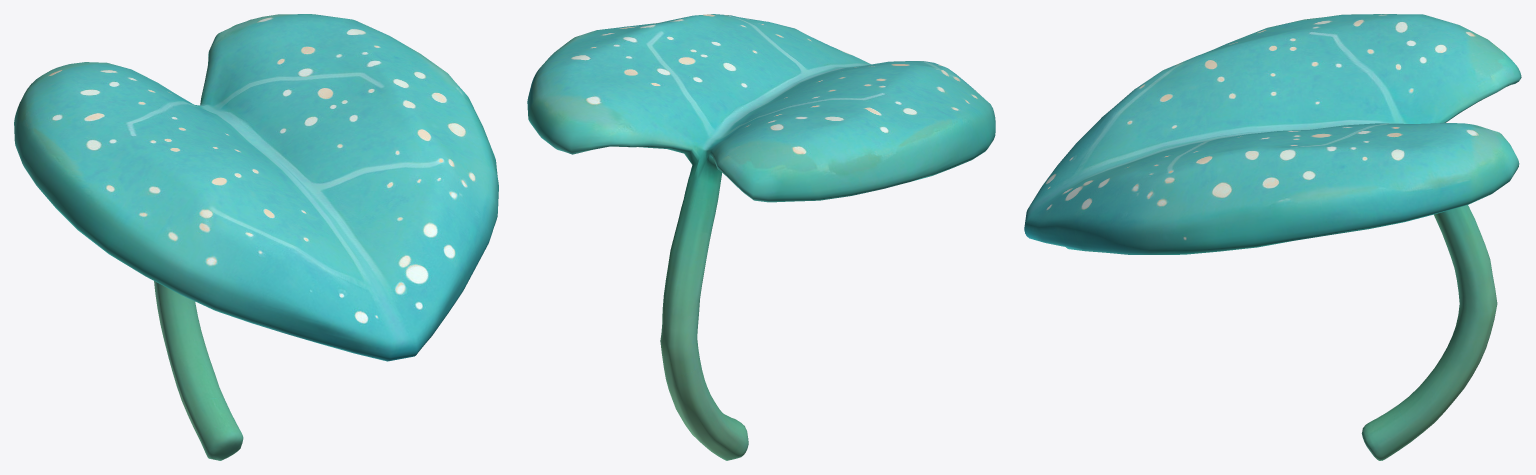
File: pothos_mint_dot_v1.glb
The picture shows the model from 3 angles, left to right: view 1: azimuth 30°, elevation 25°; view 2: azimuth 150°, elevation 25°; view 3: azimuth 270°, elevation 25°; orthographic projection. The views are drawn at different scales.
Parts seen in each view (by area): view 1: world; view 2: world; view 3: world.
Part boxes in pixels (box(x1,y1,x2,y2)): world: box(14, 14, 498, 460); world: box(527, 14, 995, 460); world: box(1024, 14, 1521, 460).
Size of the model in its own units: 1.81 by 1.68 by 2.
Materials: 1 (1 with a texture image).
